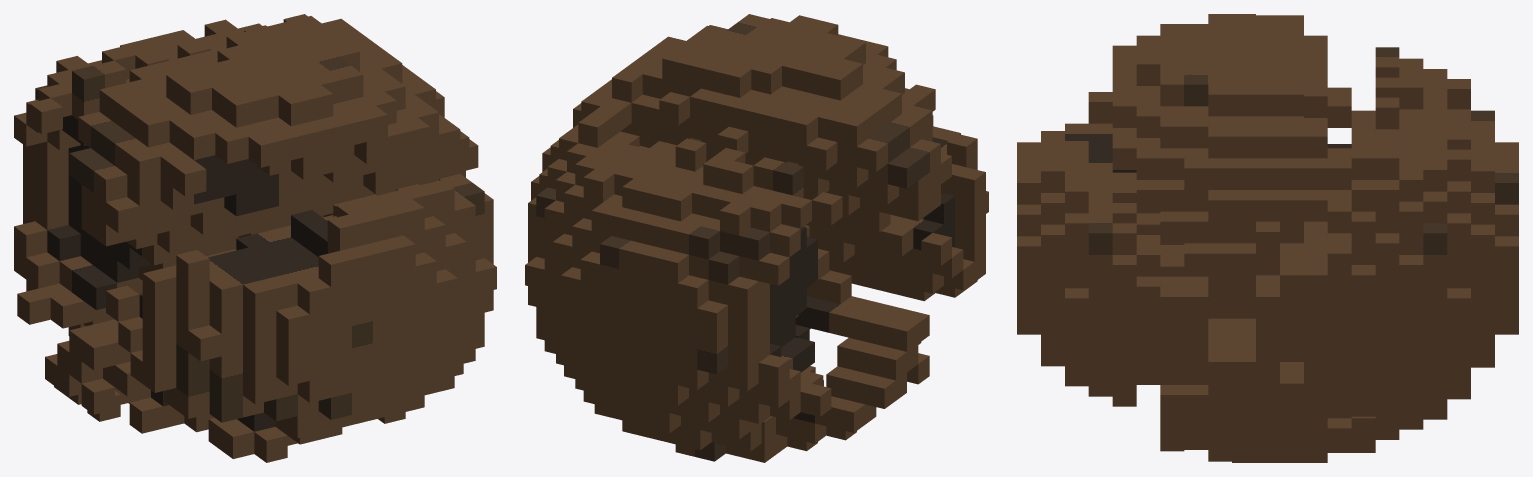
File: MeteorCrashed.glb
The picture shows the model from 3 angles, left to right: view 1: azimuth 30°, elevation 25°; view 2: azimuth 150°, elevation 25°; view 3: azimuth 270°, elevation 25°; orthographic projection. The views are drawn at different scales.
Visible parts, largest first — view 1: meteorCrashed-Mesh; view 2: meteorCrashed-Mesh; view 3: meteorCrashed-Mesh.
Boxes of the visible parts, x1=… form: meteorCrashed-Mesh: x1=14, y1=14, x2=496, y2=462; meteorCrashed-Mesh: x1=525, y1=14, x2=988, y2=462; meteorCrashed-Mesh: x1=1017, y1=14, x2=1518, y2=462.
Size of the model in its own units: 17 by 17 by 21.
1 material, 1 textured.
